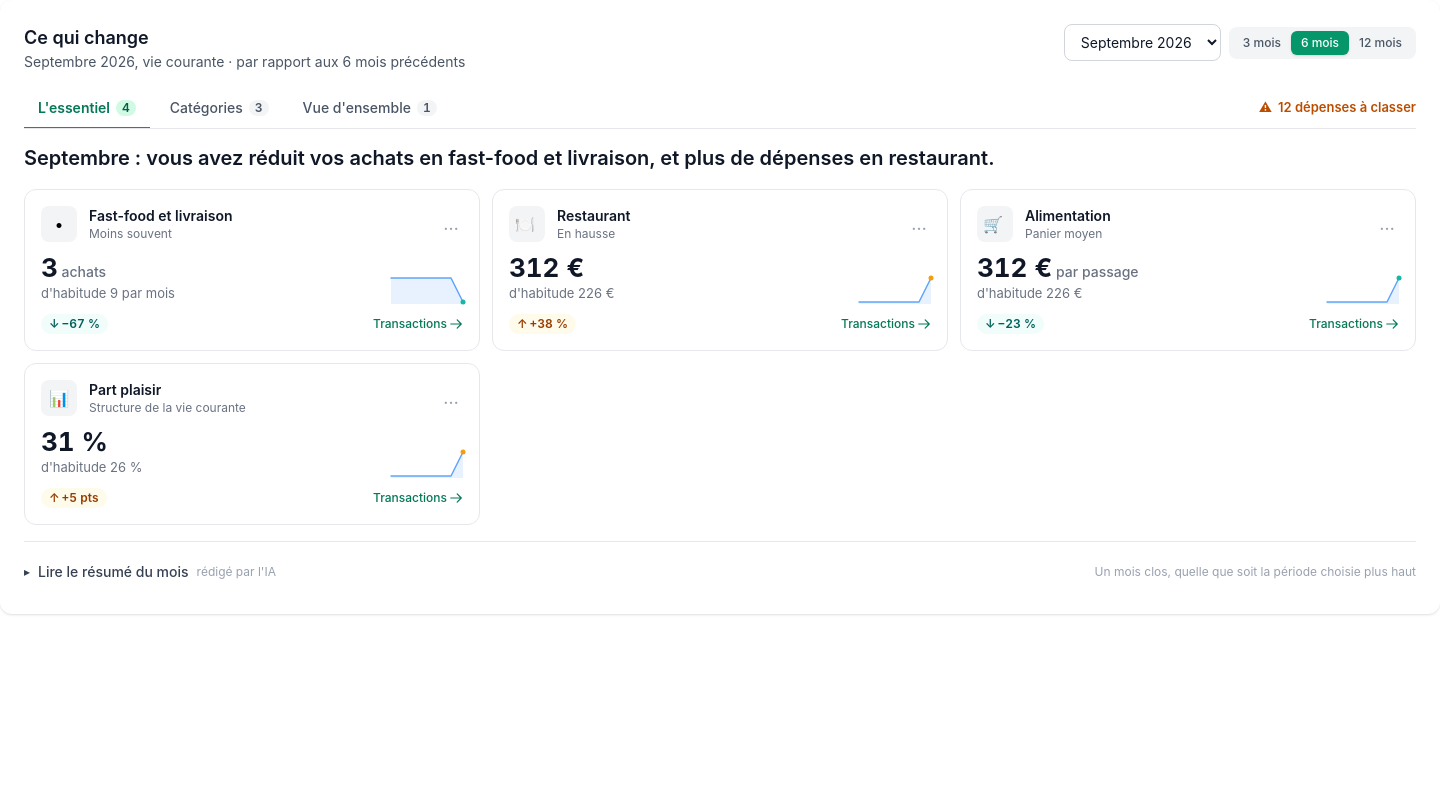
it: SpendingTrendsCard › the written paragraph (lot 5) › shows the paragraph in place, with its mention, model and date
Click the button with test id "trends-digest-toggle".
click(150, 572)  # box top-left (24, 554), bottom-right (276, 590)
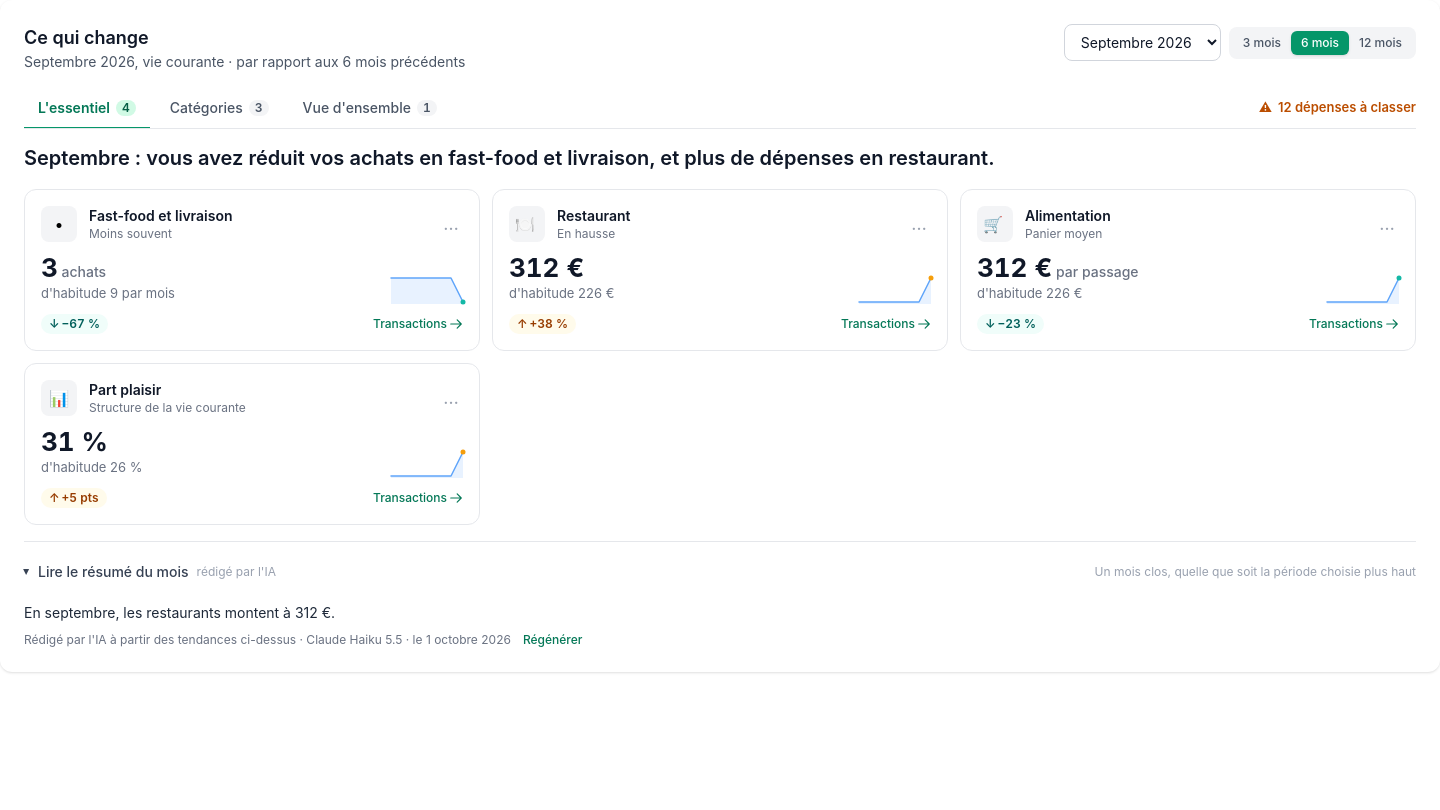
Check: the text with test id "trends-digest-text" reads "En septembre, les restaurants montent à 312 €.", box top-left (24, 604), bottom-right (335, 620)
Check: the text with test id "trends-digest-mention" shows "Rédigé par l'IA à partir des tendances ci-dessus · Claude Haiku 5.5 · le 1 octobre 2026", box top-left (24, 632), bottom-right (511, 647)
Check: the element with id "spending-trends-digest" is shown, box top-left (24, 604), bottom-right (582, 648)
